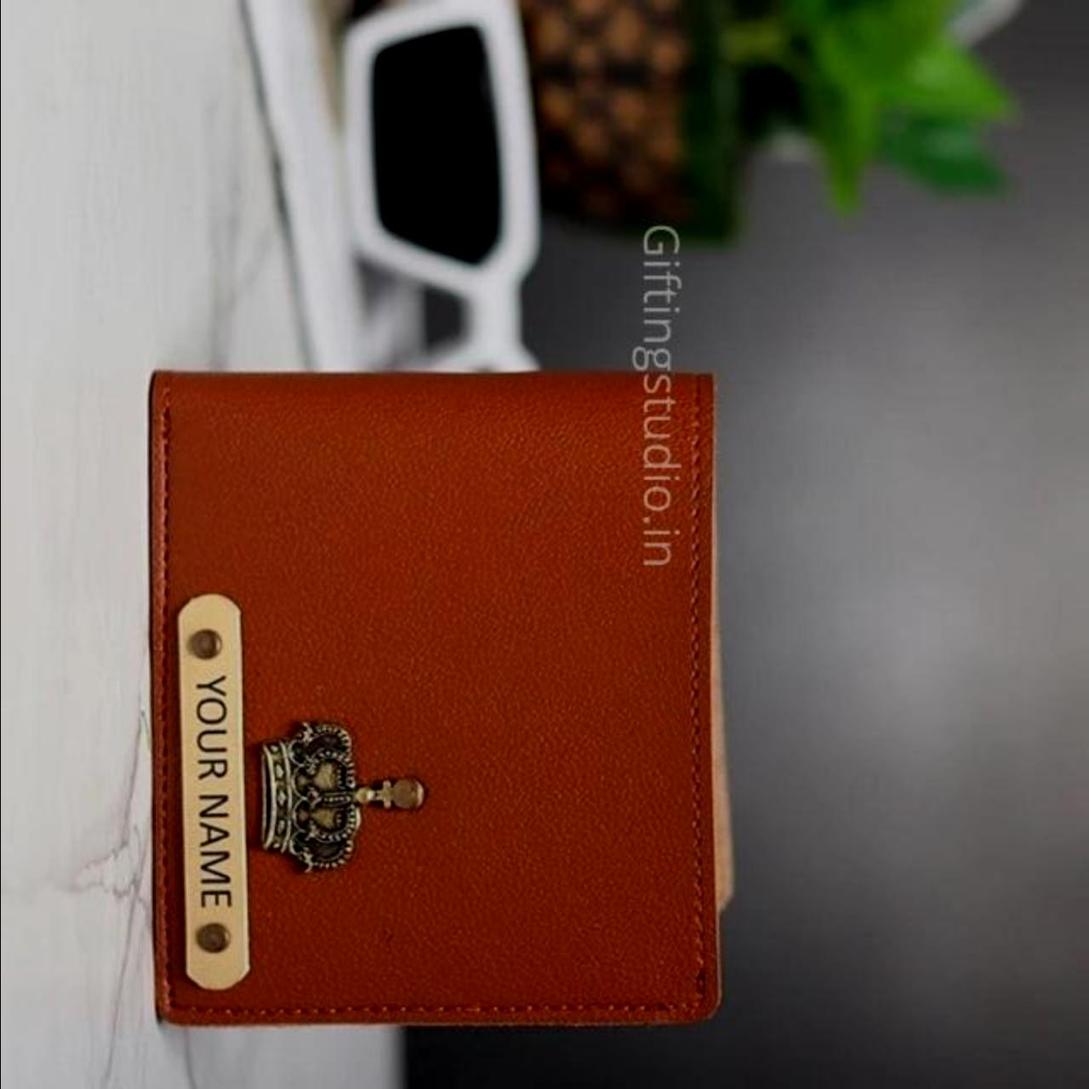wallet: (133, 352, 737, 1052)
